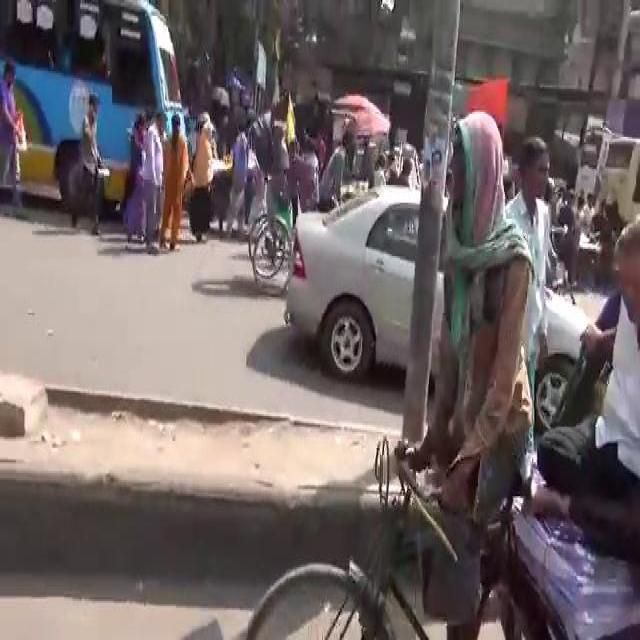bus: (0, 0, 191, 219), (570, 122, 612, 202), (601, 133, 637, 223)
car: (286, 177, 608, 435)
rickshaw: (241, 206, 637, 633), (246, 94, 364, 304)
